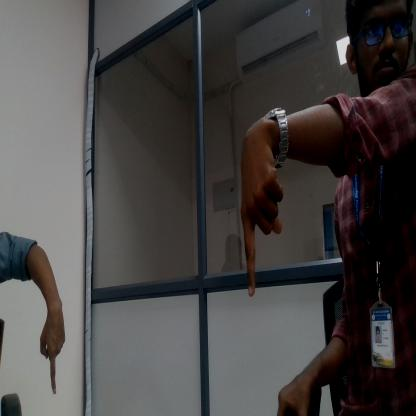Down: (234, 105, 290, 321), (34, 306, 79, 402)
